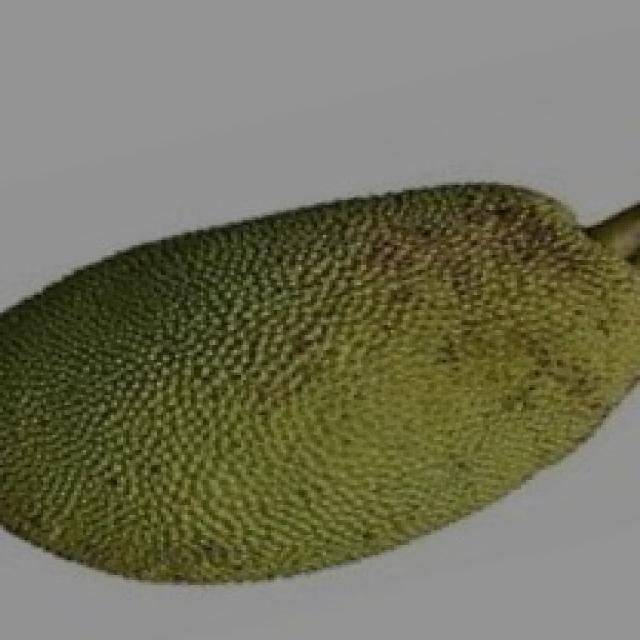Fruit: (0, 208, 397, 630), (252, 162, 640, 548)
